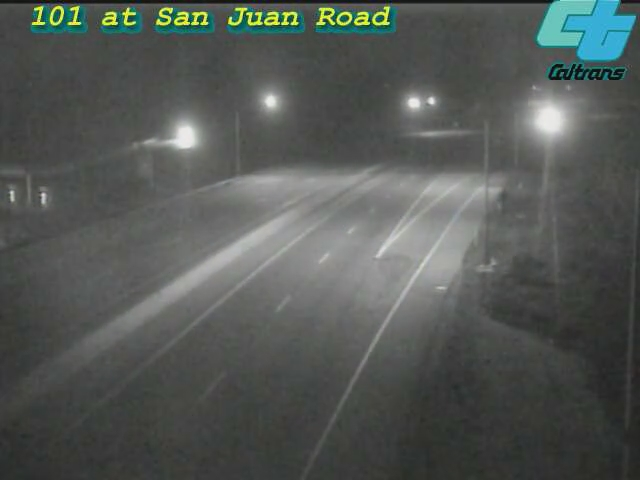vehicle: (521, 96, 571, 146)
